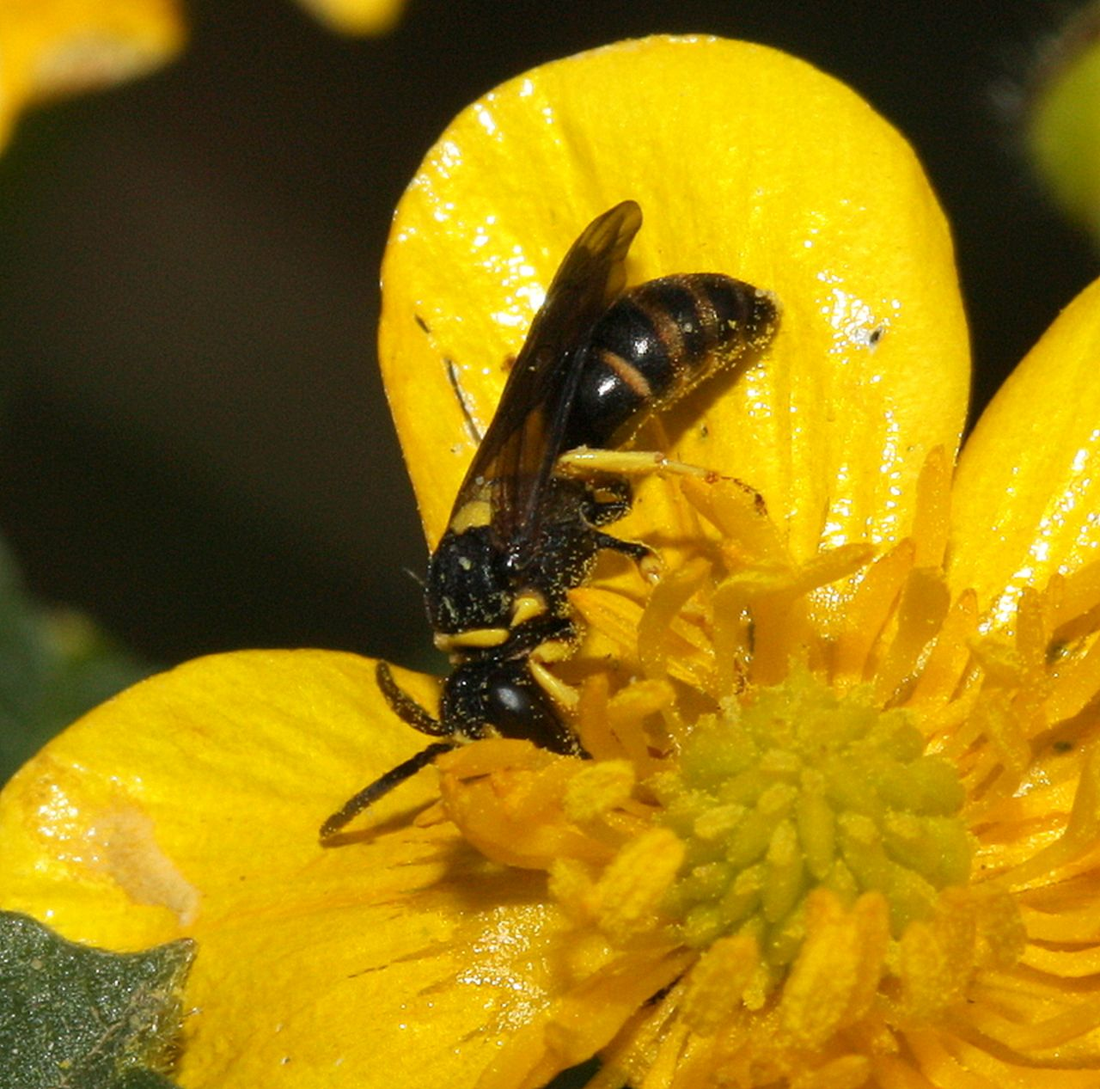Hylaeus pictus: (314, 196, 817, 863)
